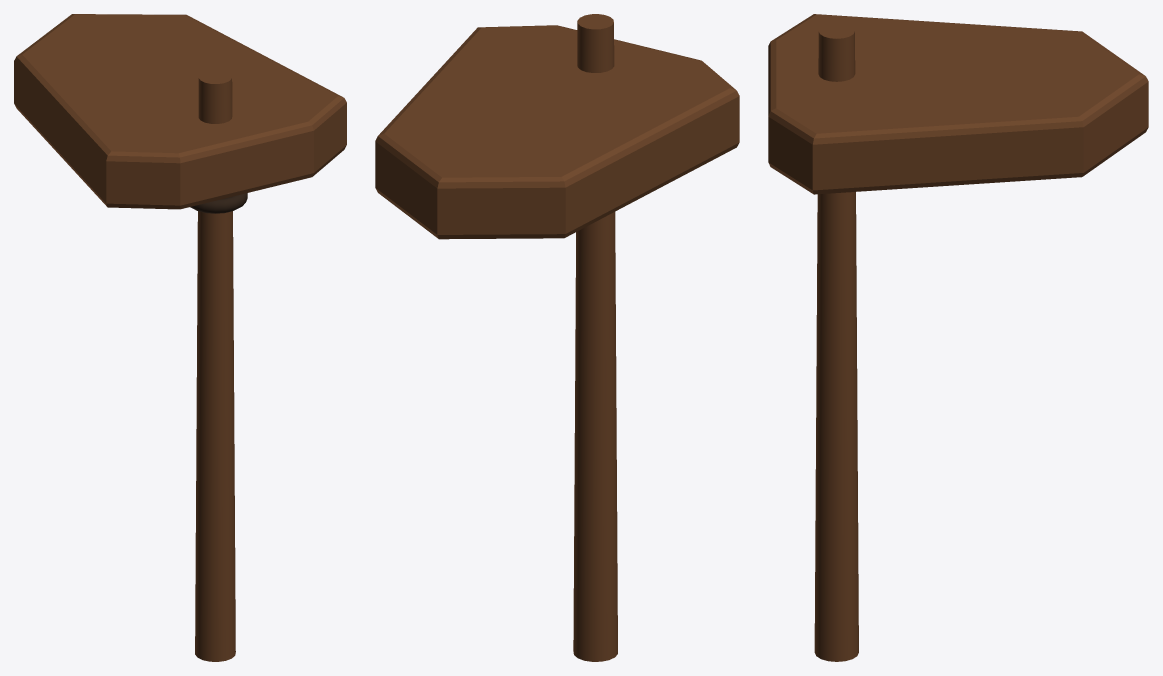
Rendered from wood_axe.glb.
3 renders of one model, left to right at view 1: azimuth 30°, elevation 25°; view 2: azimuth 150°, elevation 25°; view 3: azimuth 270°, elevation 25°, orthographic. The views are drawn at different scales.
Visible parts, largest first — view 1: head, handle, binding; view 2: head, handle; view 3: head, handle.
Boxes of the visible parts, left/top/right/bottom form: head: left=14, top=14, right=346, bottom=209; handle: left=195, top=70, right=235, bottom=661; binding: left=190, top=193, right=247, bottom=213; head: left=375, top=25, right=739, bottom=239; handle: left=573, top=14, right=617, bottom=661; head: left=768, top=14, right=1148, bottom=194; handle: left=814, top=23, right=858, bottom=661.
Size of the model in its own units: 0.2974 by 0.68 by 0.3773.
